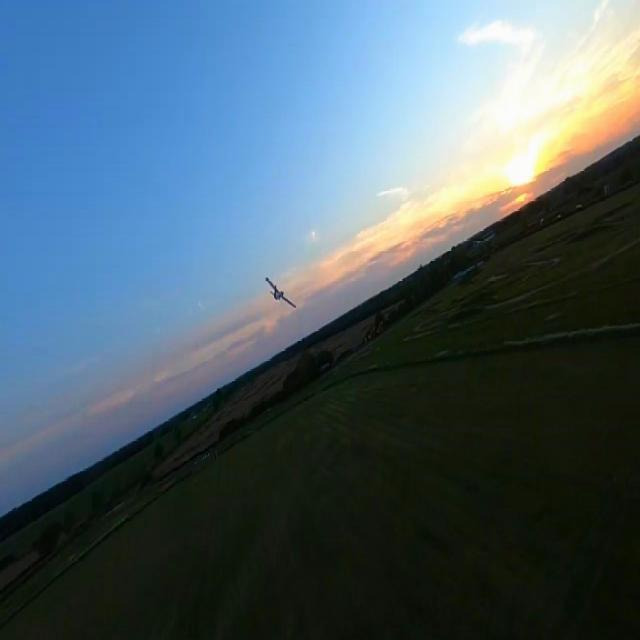iha: (258, 270, 299, 315)
